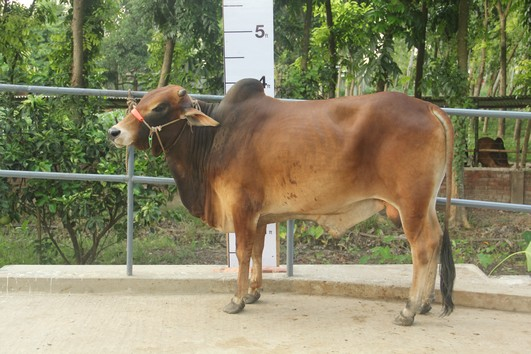cow: (105, 75, 465, 334)
